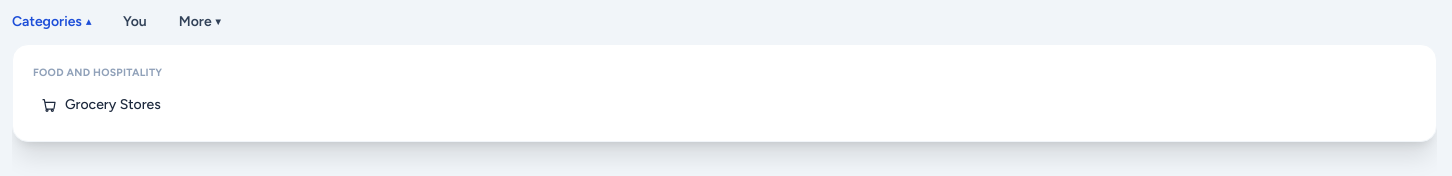
Test: HeaderNav — Categories › closes on Escape
The width and height of the screenshot is (1452, 176).
Click the button "Categories ▴" at (51, 22), box [12,12,91,32]
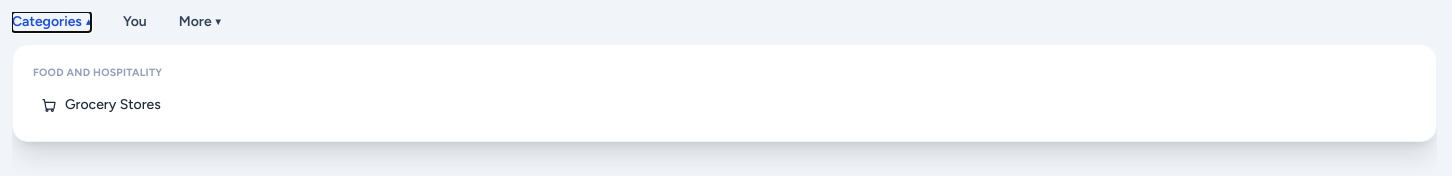
Check: the text "Grocery Stores" is shown, box [65,95,161,115]
Press Escape
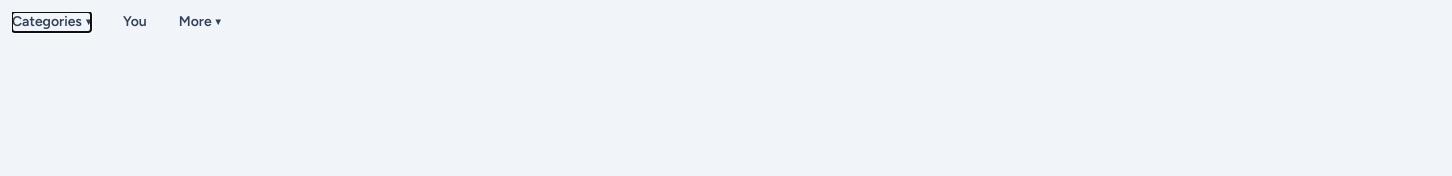
Check: the link "Grocery Stores" is gone
